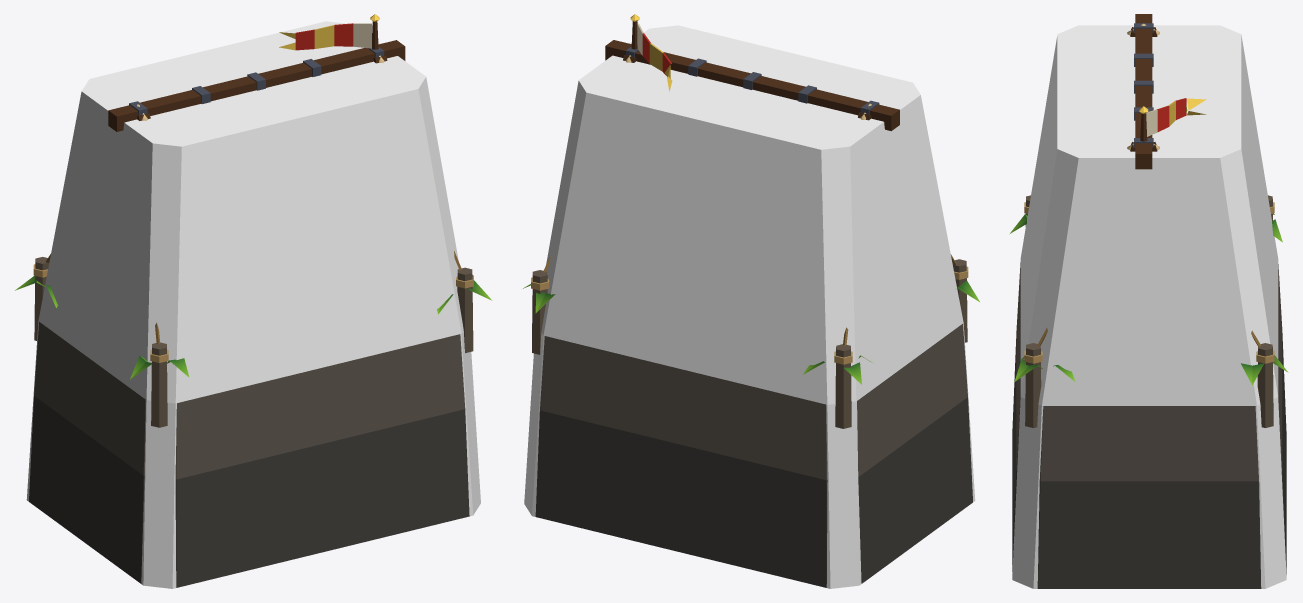
The model's file is coastal_buccaneer_careening_cradle.glb.
3 renders of one model, left to right at view 1: azimuth 30°, elevation 25°; view 2: azimuth 150°, elevation 25°; view 3: azimuth 270°, elevation 25°, orthographic.
Parts seen in each view (by area): view 1: col_careening_base, coastal_buccaneer_careening_cradle; view 2: col_careening_base, coastal_buccaneer_careening_cradle; view 3: col_careening_base, coastal_buccaneer_careening_cradle.
Boxes of the visible parts, x1,y1,x2,y2 form: col_careening_base: (26,21,480,588); coastal_buccaneer_careening_cradle: (15,14,492,587); col_careening_base: (524,25,975,588); coastal_buccaneer_careening_cradle: (523,14,979,587); col_careening_base: (1012,25,1286,588); coastal_buccaneer_careening_cradle: (1010,14,1288,588).
Bounding box in the file's own units: 5.79 × 7.15 × 3.95.
